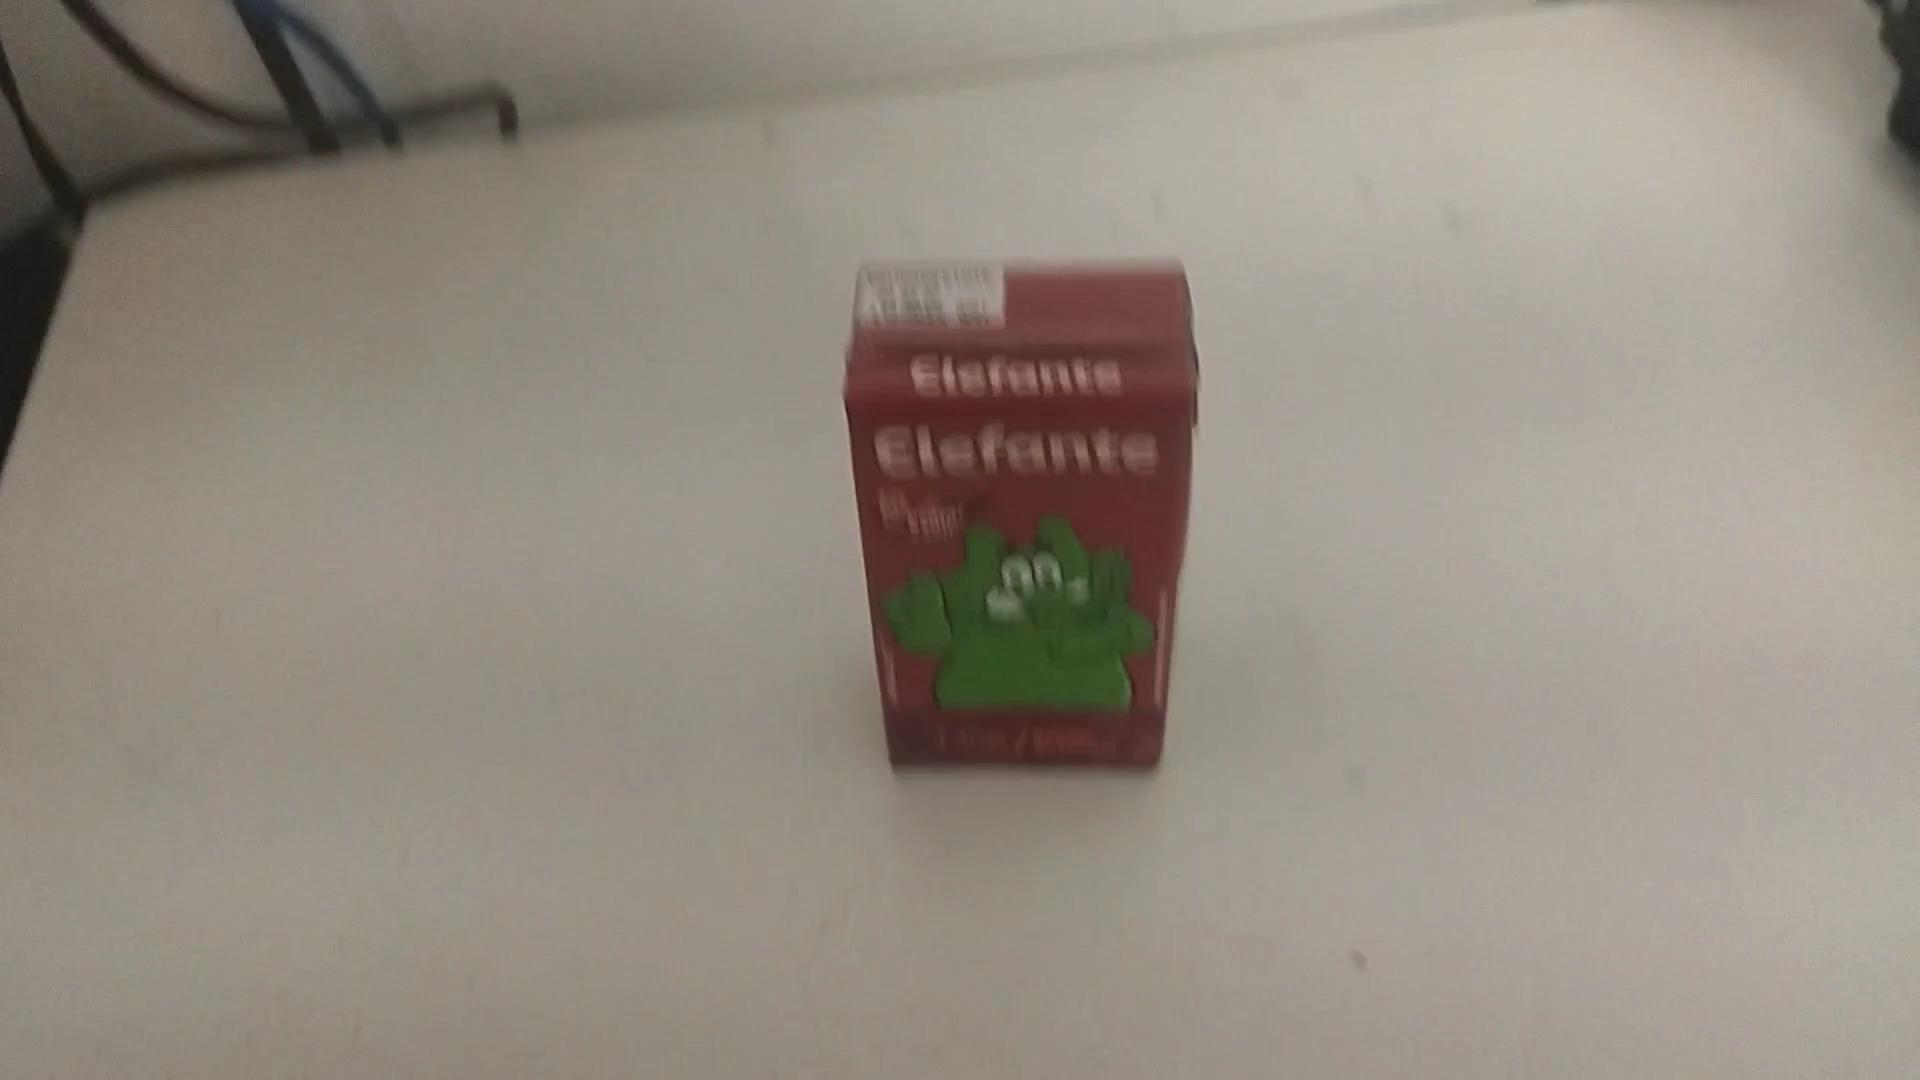tomate: (835, 241, 1207, 775)
